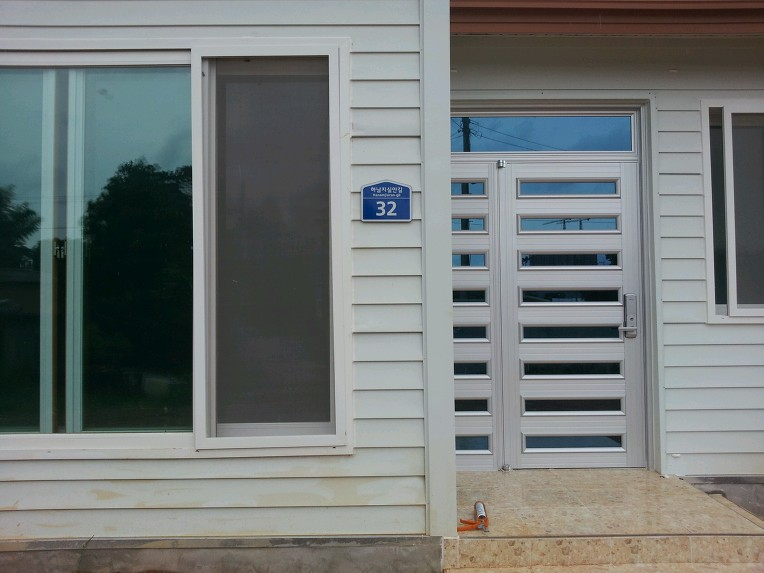building_license_plate1: (360, 179, 413, 224)
